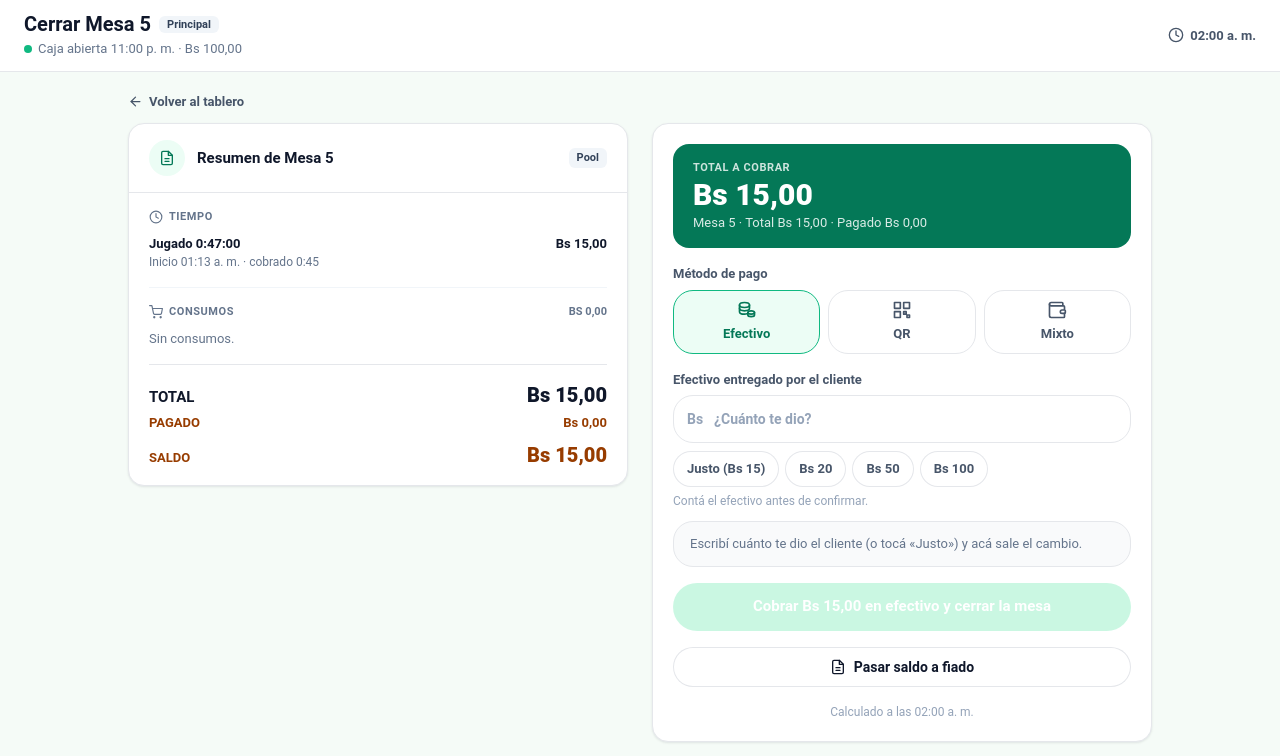
Test: Cerrar mesa con la cuenta vieja › si el saldo subió, avisa, no deja cobrar y al aceptar borra lo recibido
The image size is (1280, 756).
Expected: the text "Total a cobrar" is shown, [693, 161, 790, 174]
Expected: the text "Mesa 5 · Total Bs 15,00 · Pagado Bs 0,00" is shown, [693, 214, 927, 230]
Type "20" into the field named "Efectivo entregado por el cliente" at (902, 419), box [673, 395, 1131, 443]
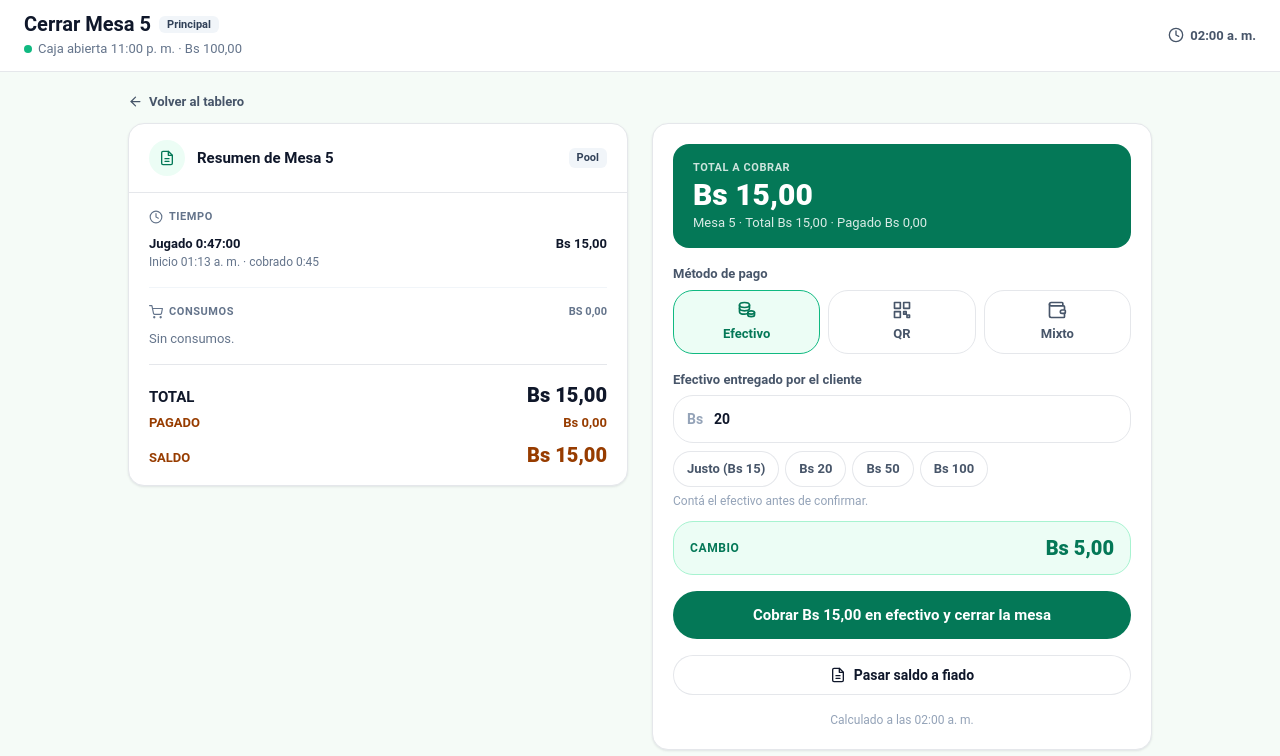
Now the text "Bs 5,00" is shown, box [1046, 534, 1114, 562]
Click the button "Cobrar Bs 15,00 en efectivo y cerrar la mesa" at (902, 615), box [673, 591, 1131, 639]
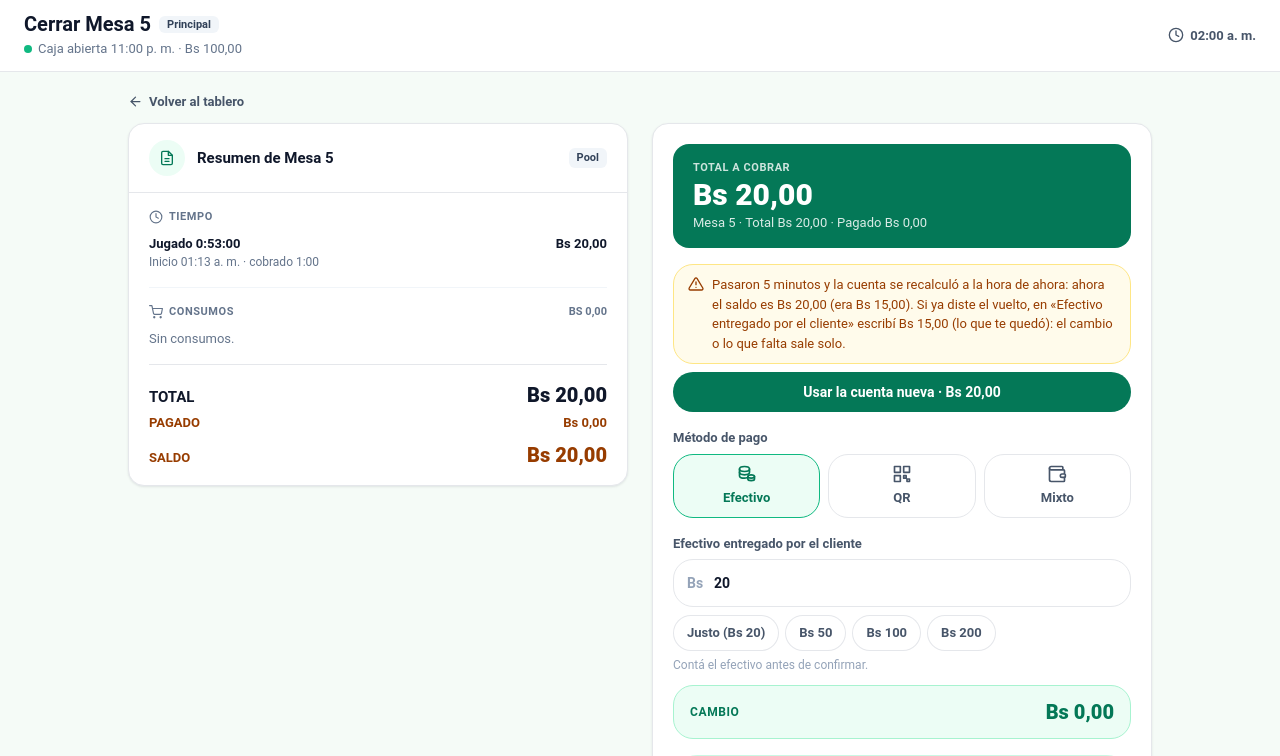
Now the text "Pasaron 5 minutos" shows "ahora el saldo es Bs.20,00 (era Bs.15,00)", box [712, 277, 1113, 350]
Click the button "Usar la cuenta nueva · Bs 20,00" at (902, 392), box [673, 372, 1131, 412]
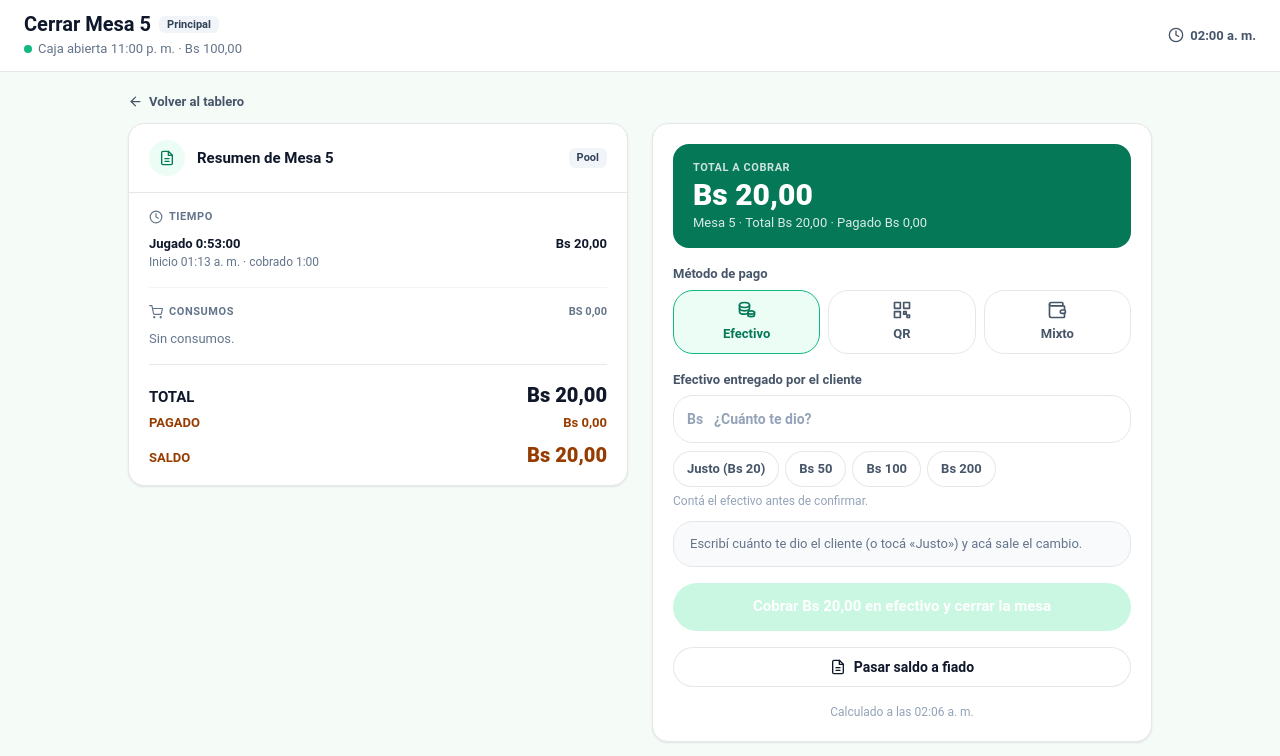
Now the button "Cobrar Bs 20,00 en efectivo y cerrar la mesa" is disabled, box [673, 582, 1131, 630]
Now the text "Pasaron 5 minutos" is gone
Now the field named "Efectivo entregado por el cliente" is empty
Type "20" into the field named "Efectivo entregado por el cliente" at (902, 419), box [673, 395, 1131, 443]
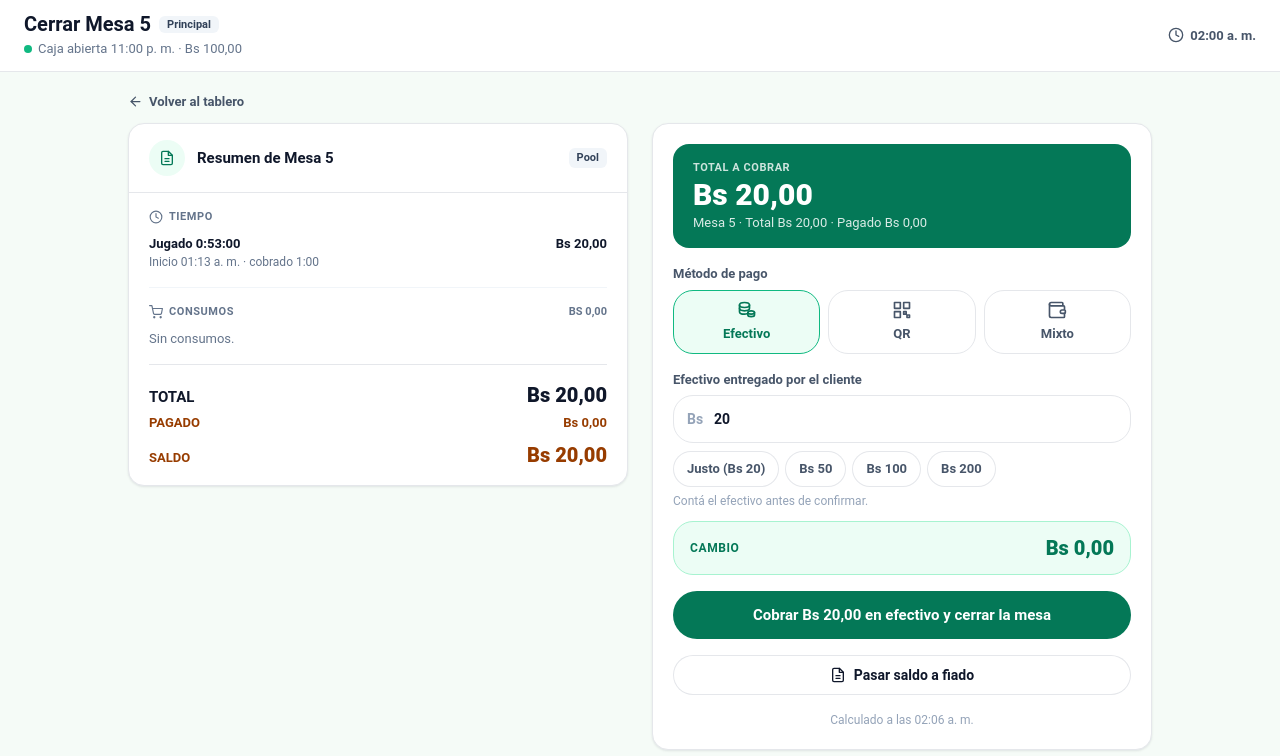
Now the button "Cobrar Bs 20,00 en efectivo y cerrar la mesa" is enabled, box [673, 591, 1131, 639]
